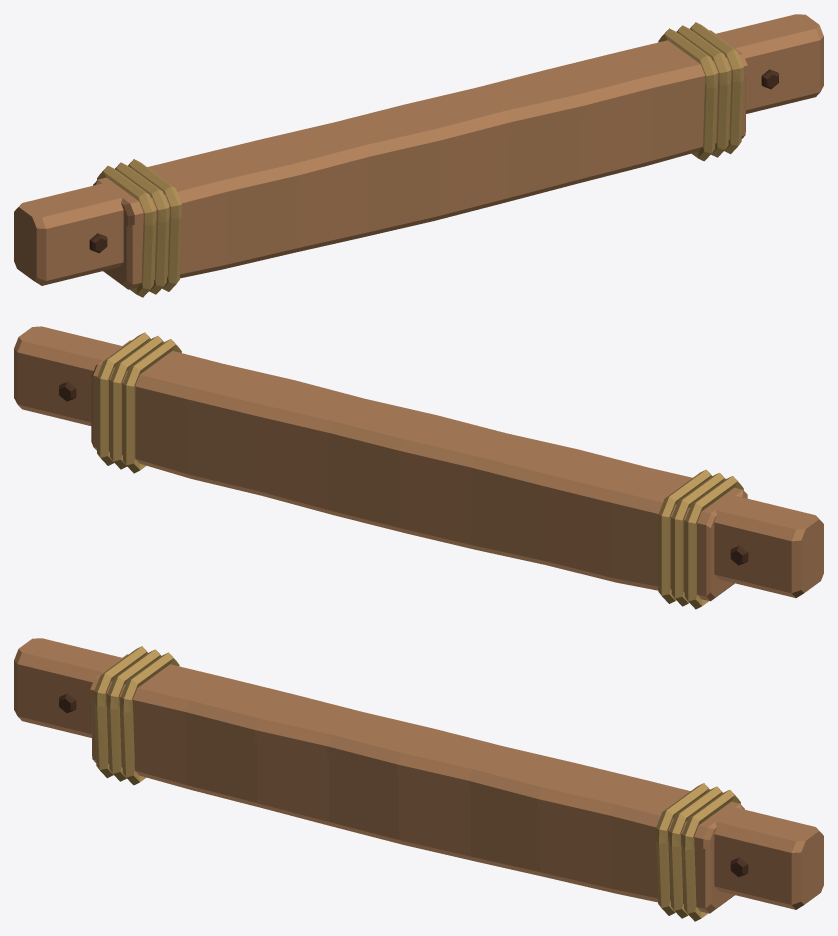
The model's file is recessed-bay-tie-beam-666d73.glb.
The picture shows the model from 3 angles, top to bottom: view 1: azimuth 30°, elevation 25°; view 2: azimuth 150°, elevation 25°; view 3: azimuth 330°, elevation 25°; orthographic projection.
Visible parts, largest first — view 1: beam; view 2: beam; view 3: beam.
Part boxes in pixels (bbox=[...]): beam: bbox=[14, 14, 823, 297]; beam: bbox=[14, 326, 823, 609]; beam: bbox=[14, 638, 823, 921].
Size of the model in its own units: 3 by 0.3917 by 0.3485.
